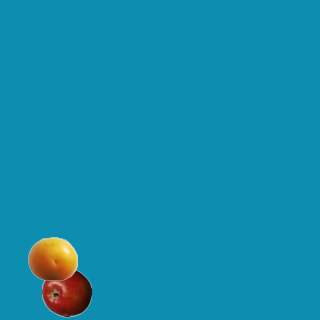Apple Braeburn: (41, 267, 91, 317)
Cherry Wax Yellow: (27, 233, 77, 283)
